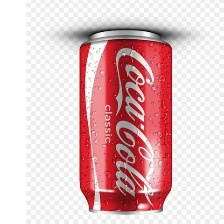can: (75, 26, 176, 216)
